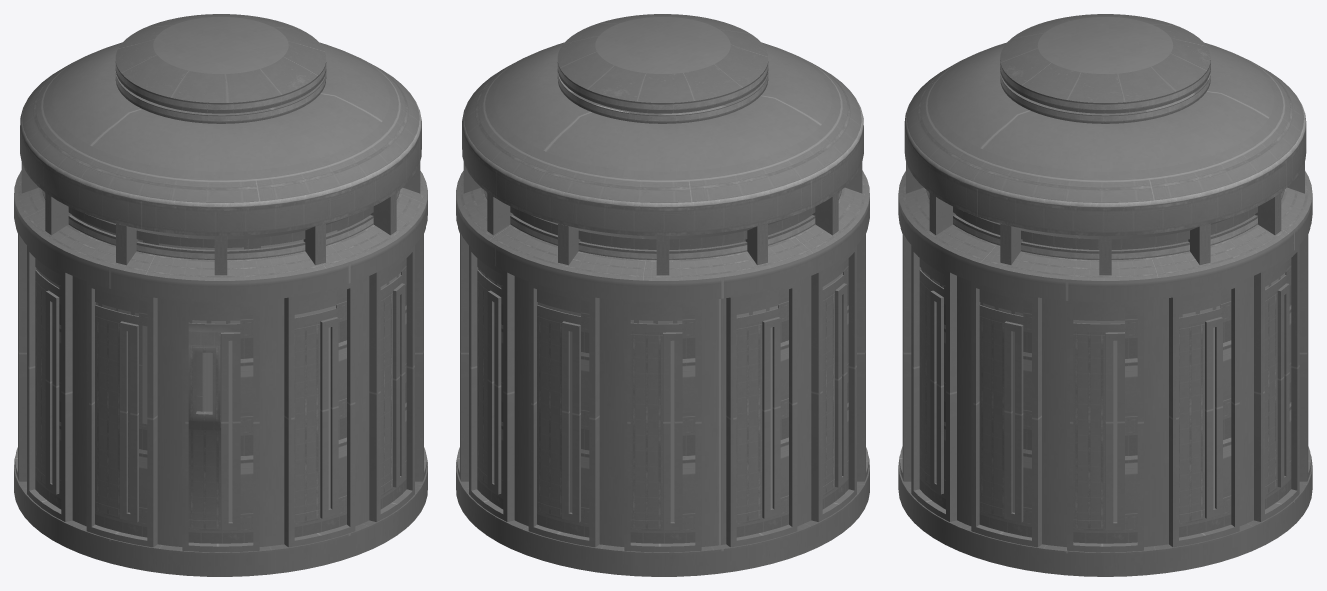
The model's file is SM_module_building_01.glb.
3 views of the same model, side by side, from view 1: azimuth 30°, elevation 25°; view 2: azimuth 150°, elevation 25°; view 3: azimuth 270°, elevation 25° (orthographic).
Parts seen in each view (by area): view 1: SM_module_building_01; view 2: SM_module_building_01; view 3: SM_module_building_01.
Boxes of the visible parts, x1,y1,x2,y2 form: SM_module_building_01: [14, 14, 427, 576]; SM_module_building_01: [456, 14, 869, 576]; SM_module_building_01: [898, 14, 1312, 576].
Bounding box in the file's own units: 30.83 × 36.47 × 30.83.
Materials: 1 (1 with a texture image).
